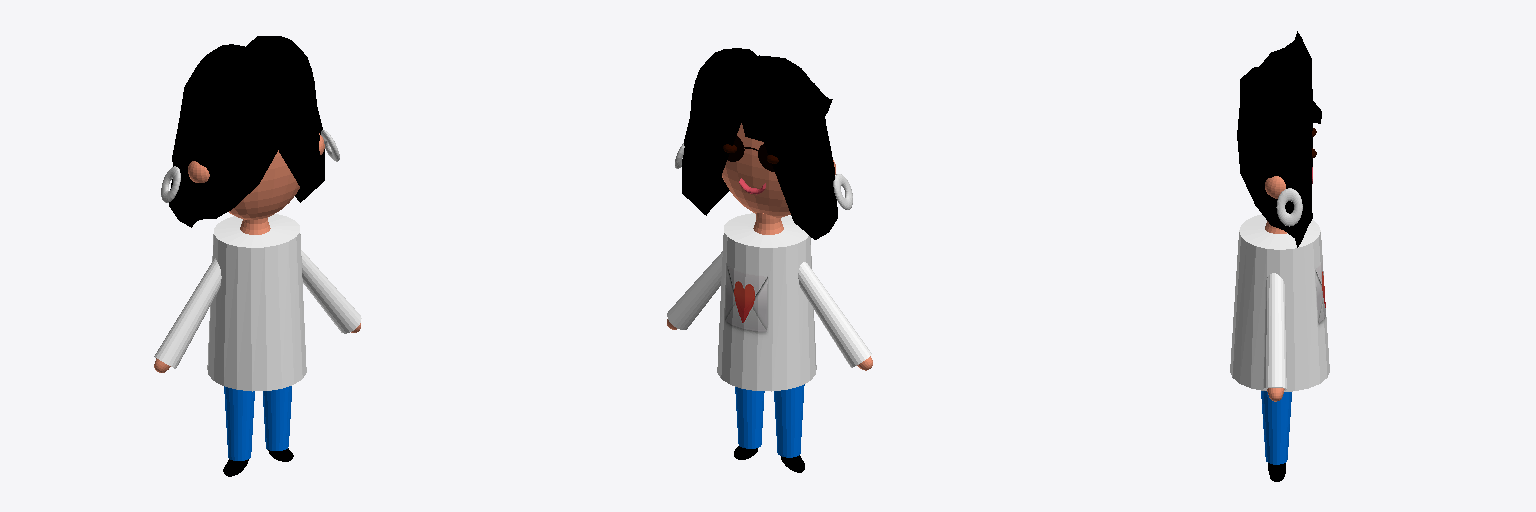
3 views of the same model, side by side, from view 1: azimuth 30°, elevation 25°; view 2: azimuth 150°, elevation 25°; view 3: azimuth 270°, elevation 25° (orthographic).
Parts seen in each view (by area): view 1: AllBASIC polySurface2 group1, AllBASIC body, hair, AllBASIC arm2 pCylinder2, AllBASIC group1 face1, AllBASIC Leg1 pCylinder4, AllBASIC arm1 pCylinder2, AllBASIC Leg2 pCylinder4; view 2: AllBASIC polySurface2 group1, AllBASIC body, AllBASIC group1 face1, AllBASIC arm2 pCylinder2, AllBASIC Leg1 pCylinder4, AllBASIC arm1 pCylinder2, AllBASIC Leg2 pCylinder4, hair; view 3: AllBASIC body, AllBASIC polySurface2 group1, hair, AllBASIC arm1 pCylinder2, AllBASIC Leg2 pCylinder4, AllBASIC earring1.
Boxes of the visible parts, x1,y1,x2,y2 form: AllBASIC polySurface2 group1: [169, 36, 324, 227]; AllBASIC body: [207, 214, 306, 391]; hair: [194, 59, 314, 140]; AllBASIC arm2 pCylinder2: [154, 258, 221, 368]; AllBASIC group1 face1: [229, 150, 299, 219]; AllBASIC Leg1 pCylinder4: [224, 386, 254, 460]; AllBASIC arm1 pCylinder2: [301, 250, 361, 333]; AllBASIC Leg2 pCylinder4: [263, 386, 291, 450]; AllBASIC polySurface2 group1: [682, 48, 837, 239]; AllBASIC body: [717, 213, 816, 391]; AllBASIC group1 face1: [722, 123, 790, 217]; AllBASIC arm2 pCylinder2: [798, 262, 871, 367]; AllBASIC Leg1 pCylinder4: [774, 384, 804, 457]; AllBASIC arm1 pCylinder2: [667, 251, 722, 329]; AllBASIC Leg2 pCylinder4: [735, 387, 764, 448]; hair: [742, 55, 832, 142]; AllBASIC body: [1230, 214, 1329, 391]; AllBASIC polySurface2 group1: [1237, 31, 1312, 247]; hair: [1240, 63, 1321, 153]; AllBASIC arm1 pCylinder2: [1263, 273, 1286, 390]; AllBASIC Leg2 pCylinder4: [1261, 391, 1291, 464]; AllBASIC earring1: [1276, 188, 1302, 226].
Size of the model in its own units: 3.85 by 7.58 by 1.63.
Materials: 10 (1 with a texture image).